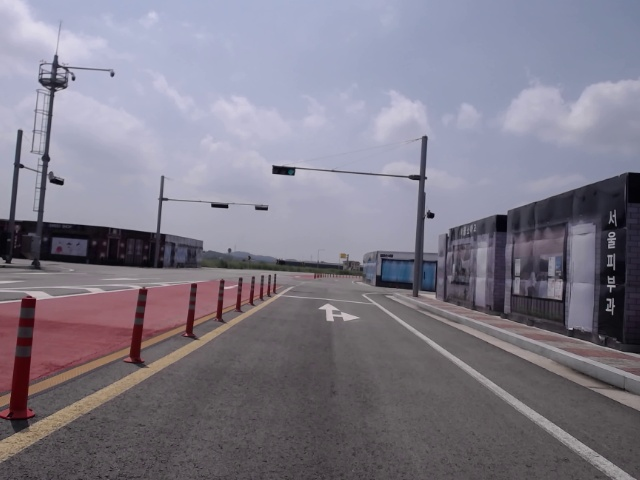green_3: (272, 166, 296, 176)
